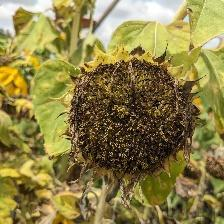sunflower: (64, 54, 203, 183)
